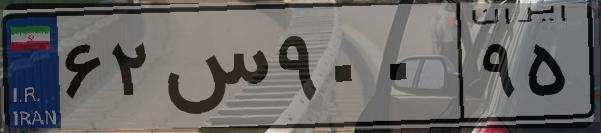0: (385, 28, 445, 110), (330, 28, 385, 110)
2: (110, 28, 158, 98)
5: (525, 38, 570, 115)
6: (57, 26, 110, 100)
9: (270, 28, 330, 110), (475, 38, 525, 113)
س: (158, 20, 270, 120)
